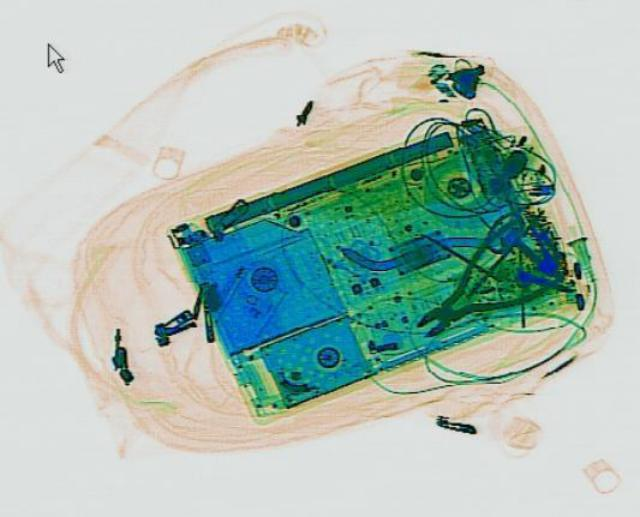Pliers: (384, 213, 580, 356)
